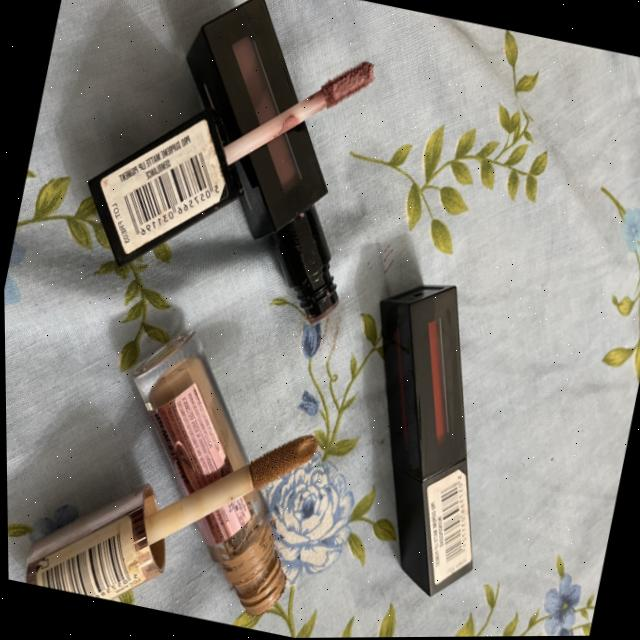concealer: (3, 295, 367, 640), (216, 403, 345, 512)
lip gloss: (41, 0, 408, 365), (314, 241, 549, 613), (281, 25, 399, 155)
